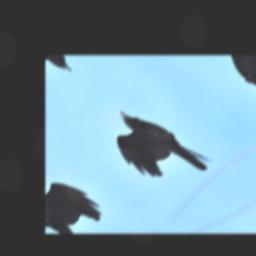Crow: (91, 99, 216, 198)
